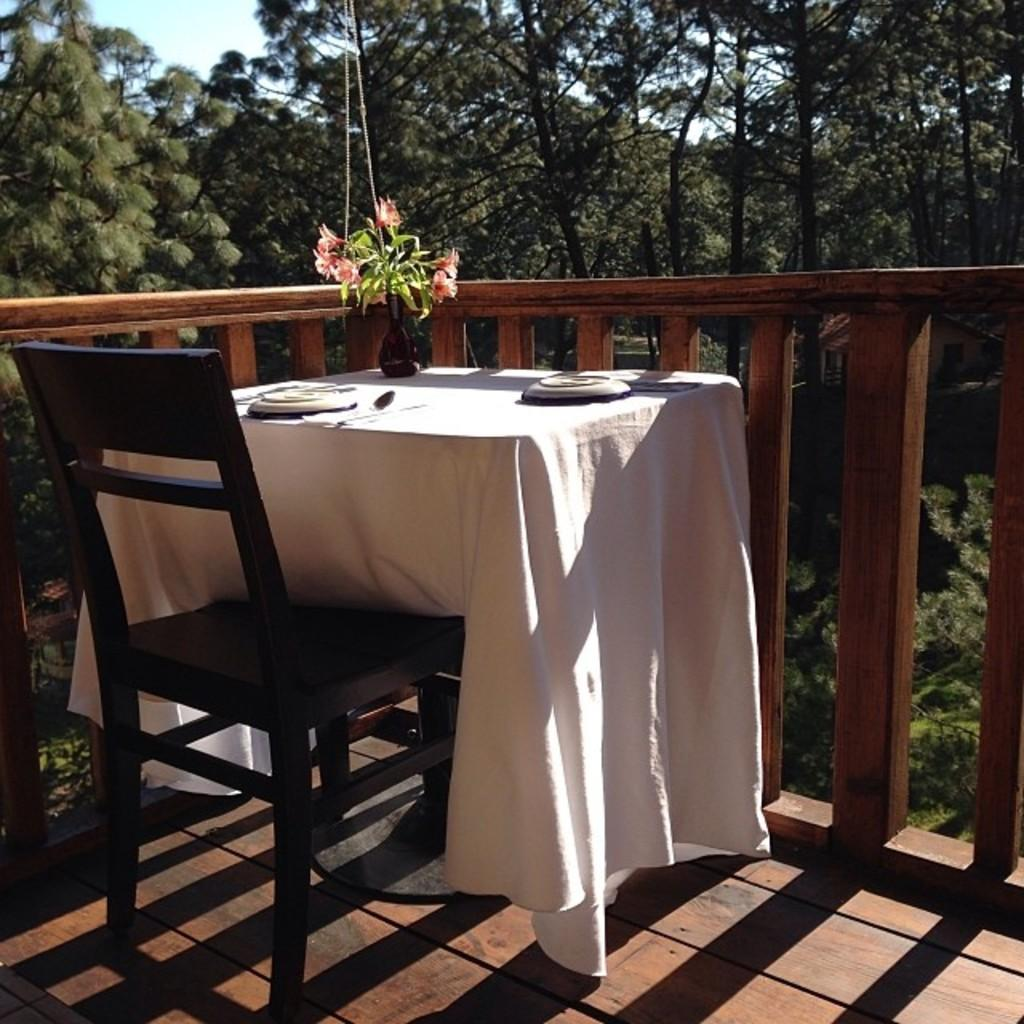Chair: (19, 285, 496, 987)
